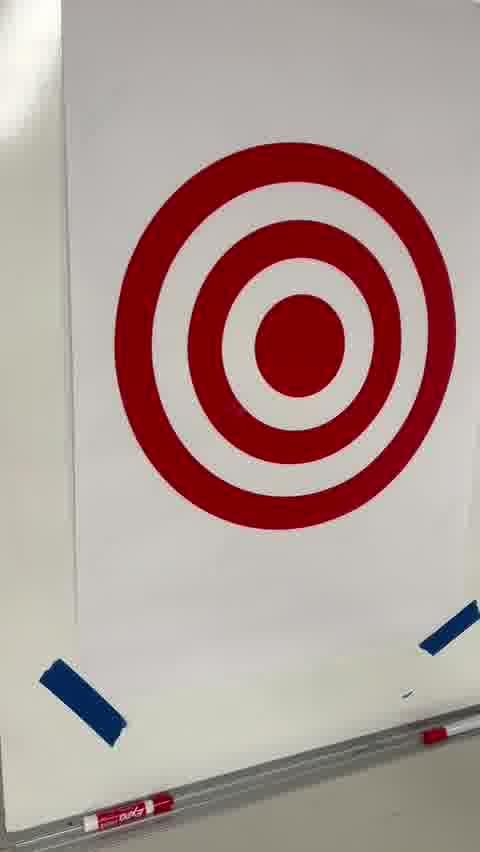target_red: (115, 142, 458, 528)
